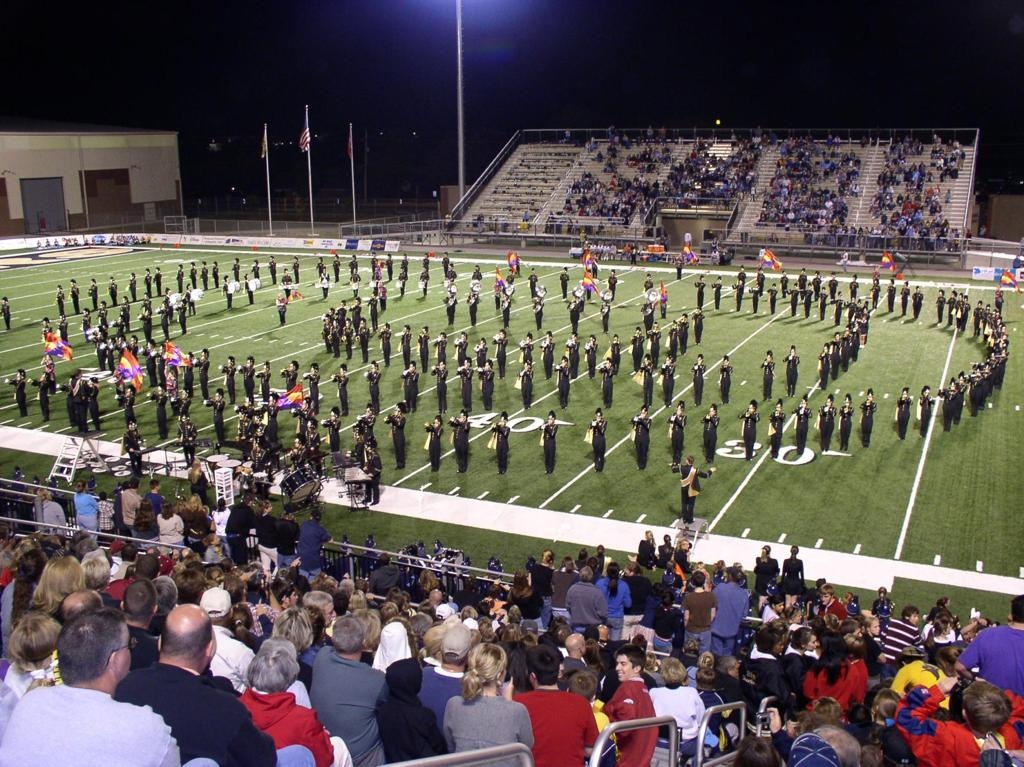human_face: (108, 620, 130, 678), (614, 652, 636, 682), (322, 600, 336, 626), (282, 588, 298, 610), (800, 632, 816, 650), (768, 634, 782, 654), (868, 619, 880, 635), (906, 608, 918, 624), (820, 590, 830, 604), (941, 621, 951, 635), (790, 608, 800, 622), (774, 598, 784, 610), (212, 534, 220, 544), (683, 541, 689, 549)
